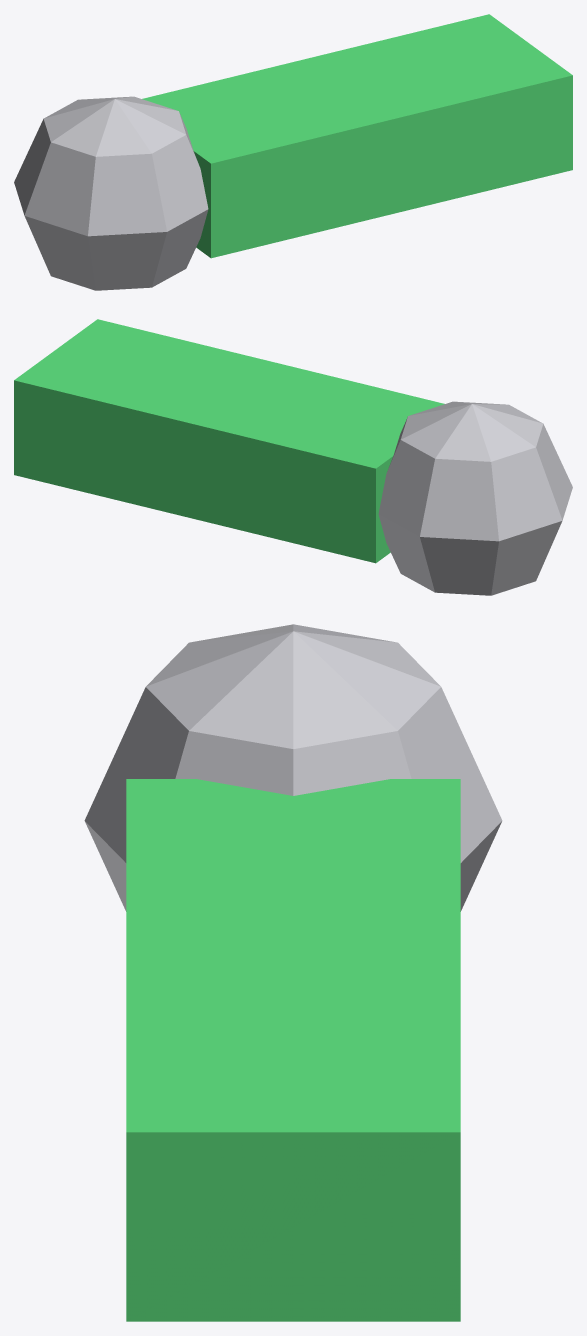
File: Nucleotide_C.fbx
3 views of the same model, one above another, from view 1: azimuth 30°, elevation 25°; view 2: azimuth 150°, elevation 25°; view 3: azimuth 270°, elevation 25° (orthographic). The views are drawn at different scales.
Parts seen in each view (by area): view 1: Nucleotide_C; view 2: Nucleotide_C; view 3: Nucleotide_C.
Boxes of the visible parts, <box> form: Nucleotide_C: <box>14,14,572,290</box>; Nucleotide_C: <box>14,319,572,595</box>; Nucleotide_C: <box>84,624,502,1321</box>.
Bounding box in the file's own units: 0.028 × 0.01 × 0.01.
